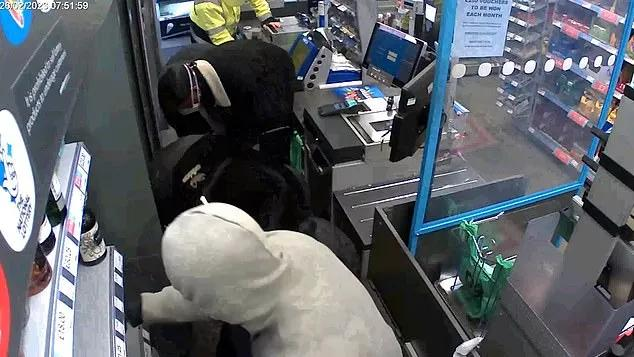Normal: (67, 27, 319, 325)
